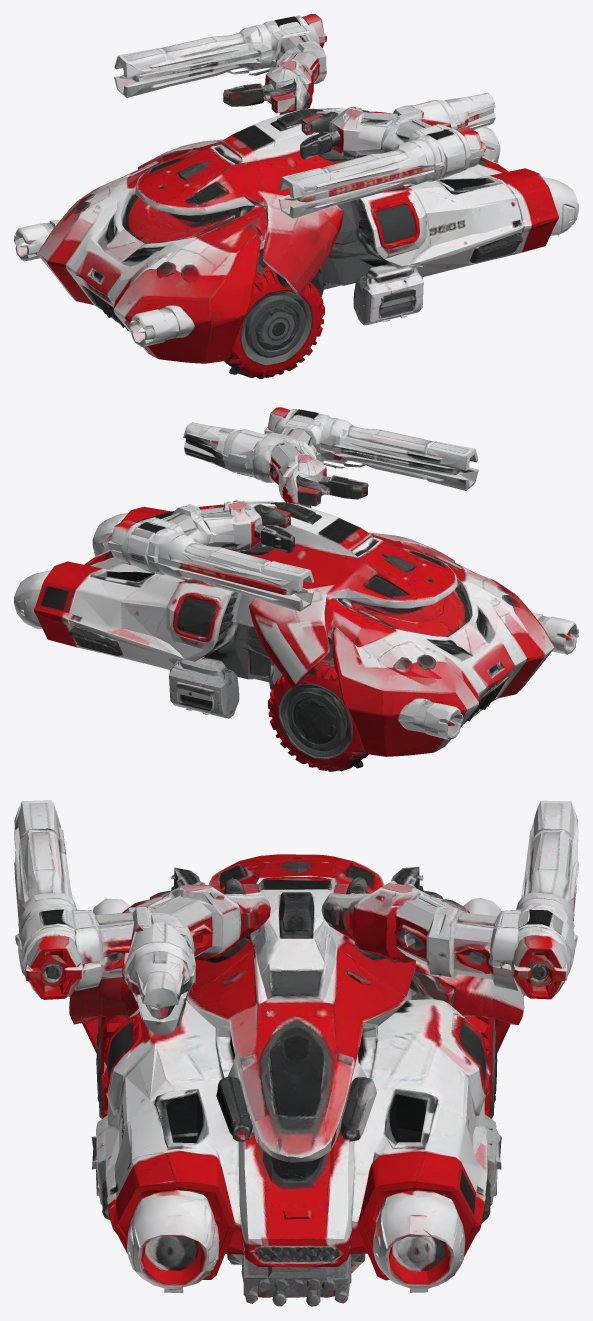
Rendered from mx_wz_hovertank.glb.
3 views of the same model, one above another, from view 1: azimuth 30°, elevation 25°; view 2: azimuth 150°, elevation 25°; view 3: azimuth 270°, elevation 25° (orthographic). The views are drawn at different scales.
Size of the model in its own units: 1.89 by 0.8898 by 1.3.
1 material, 1 textured.
